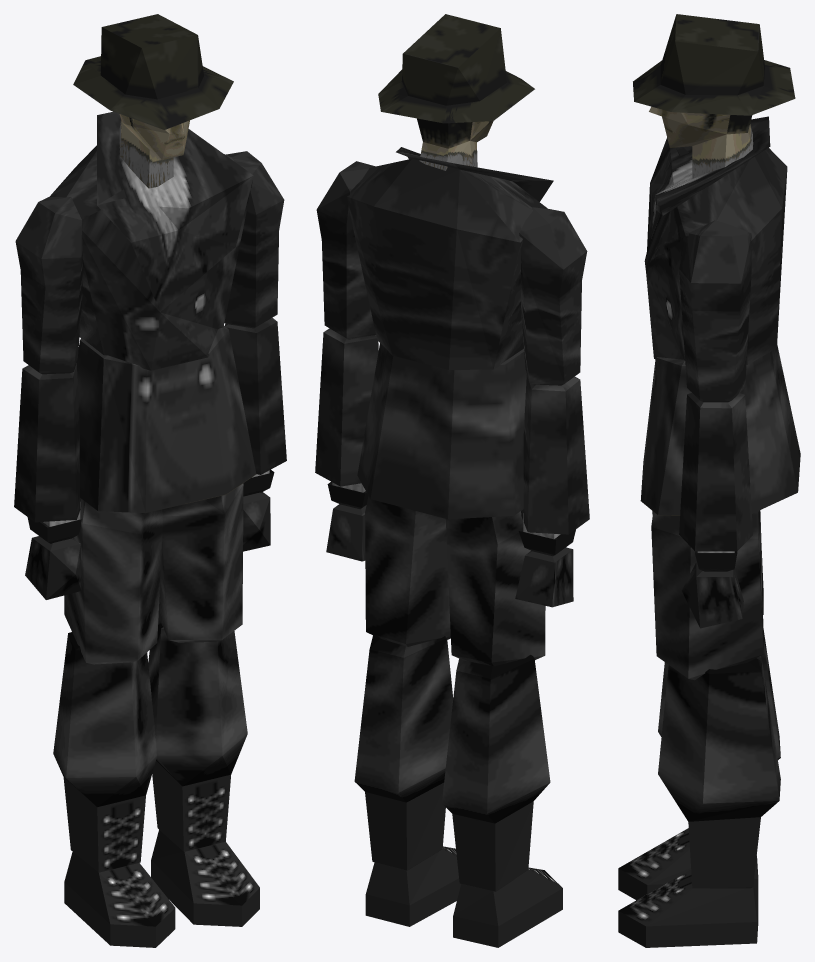
Rendered from Rabbit 2.obj.
3 views of the same model, side by side, from view 1: azimuth 30°, elevation 25°; view 2: azimuth 150°, elevation 25°; view 3: azimuth 270°, elevation 25° (orthographic).
Visible parts, largest first — view 1: Rabbit_2; view 2: Rabbit_2; view 3: Rabbit_2.
Part boxes in pixels (left/top/right/bottom): Rabbit_2: left=14, top=14, right=286, bottom=947; Rabbit_2: left=315, top=14, right=589, bottom=947; Rabbit_2: left=618, top=14, right=800, bottom=947.
Size of the model in its own units: 3.47 by 11.52 by 2.16.
1 material, 1 textured.
